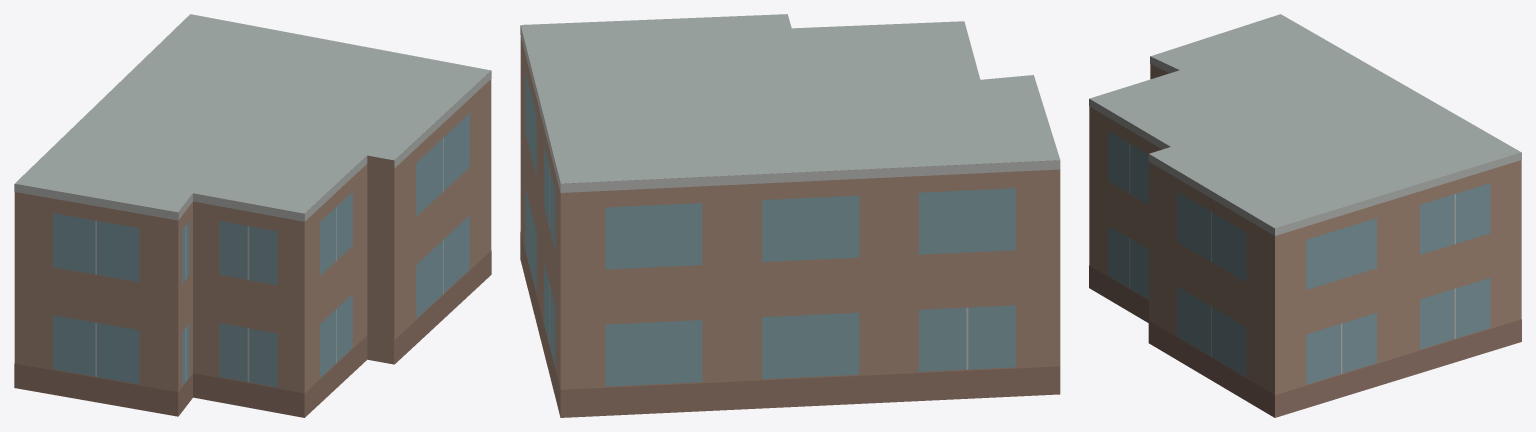
File: survey-upis-32728461.glb
The picture shows the model from 3 angles, left to right: view 1: azimuth 30°, elevation 25°; view 2: azimuth 150°, elevation 25°; view 3: azimuth 270°, elevation 25°; orthographic projection. The views are drawn at different scales.
Visible parts, largest first — view 1: survey-upis-32728461.tmp; view 2: survey-upis-32728461.tmp; view 3: survey-upis-32728461.tmp.
Part boxes in pixels (left/top/right/bottom): survey-upis-32728461.tmp: left=14, top=14, right=491, bottom=417; survey-upis-32728461.tmp: left=520, top=14, right=1060, bottom=417; survey-upis-32728461.tmp: left=1089, top=14, right=1521, bottom=417.
Size of the model in its own units: 14.82 by 6.1 by 12.63.
